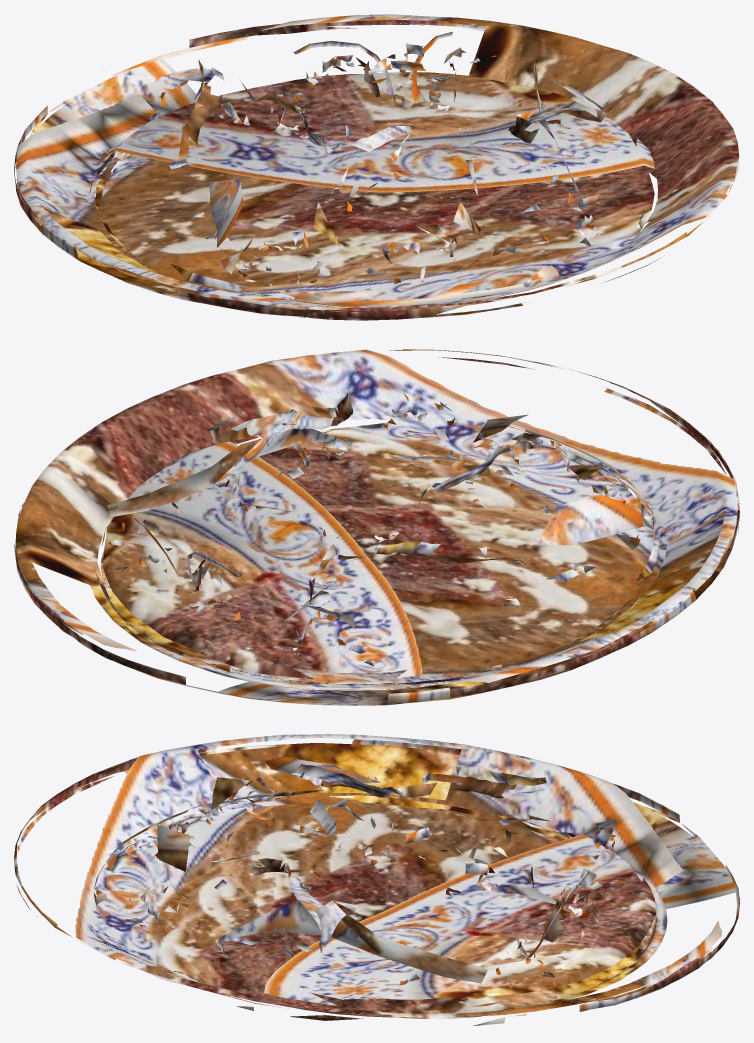
The model's file is enfrijoladas_cecina.fbx.
3 views of the same model, one above another, from view 1: azimuth 30°, elevation 25°; view 2: azimuth 150°, elevation 25°; view 3: azimuth 270°, elevation 25° (orthographic). The views are drawn at different scales.
Parts seen in each view (by area): view 1: meshes[0]; view 2: meshes[0]; view 3: meshes[0].
Part boxes in pixels (box(x1,y1,x2,y2)): meshes[0]: box(14, 14, 739, 320); meshes[0]: box(14, 349, 739, 705); meshes[0]: box(14, 734, 739, 1025).
Bounding box in the file's own units: 93.95 × 20.51 × 99.8.
